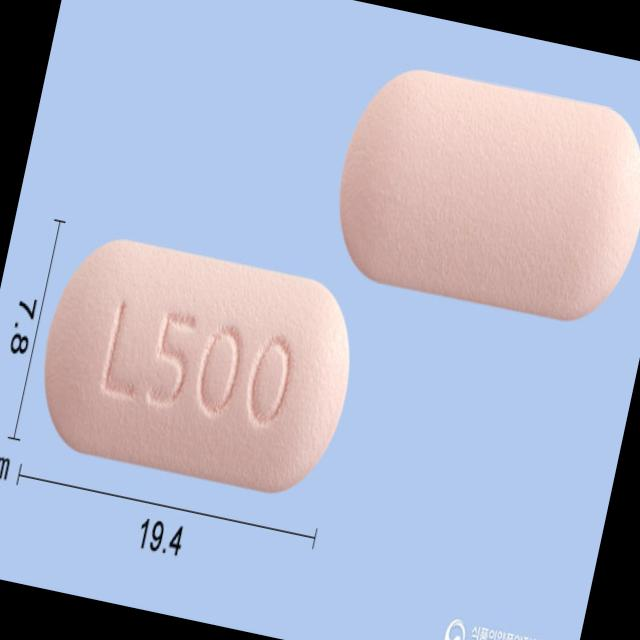Levoby: (25, 225, 369, 504)
